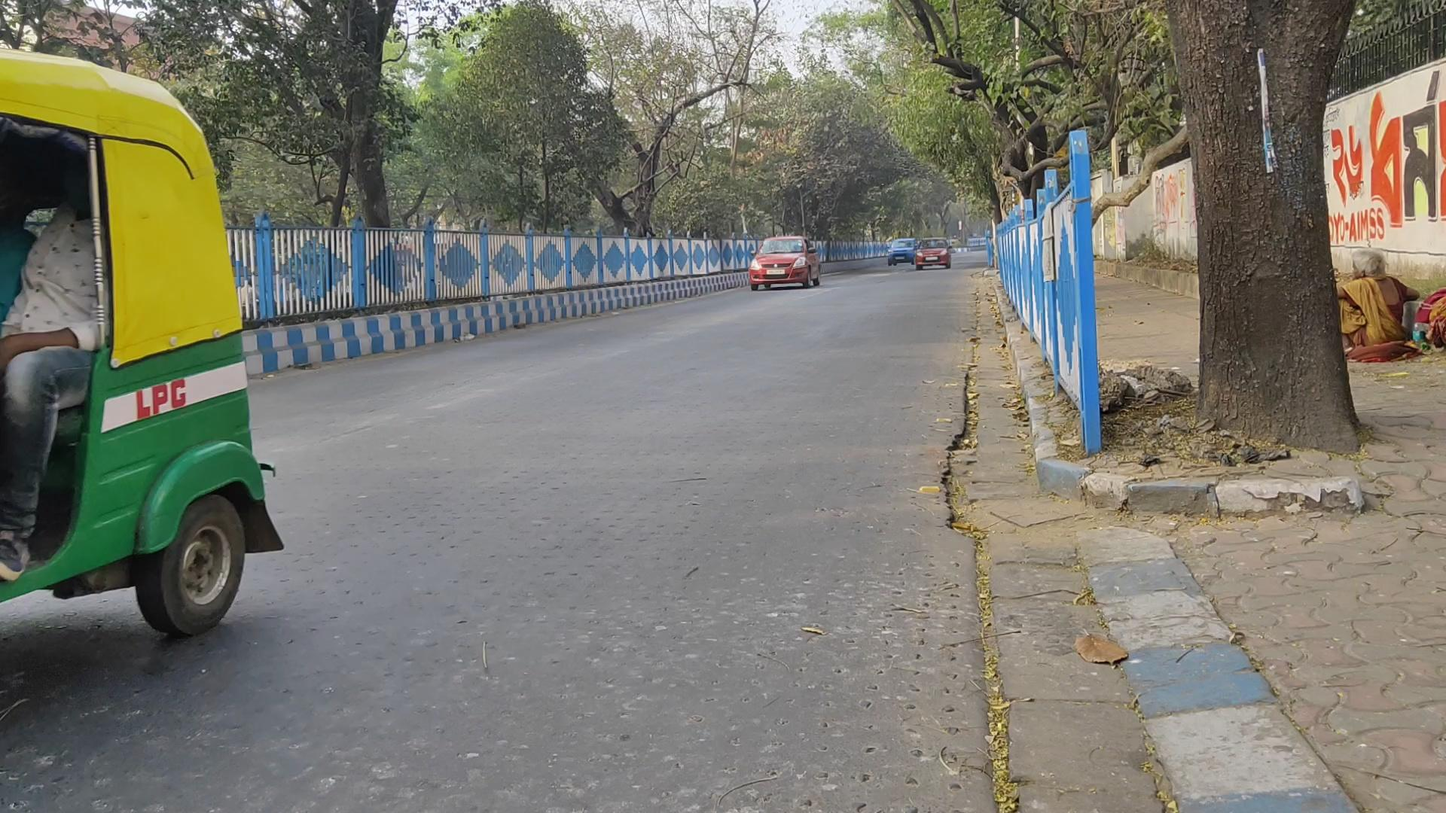Auto: (1, 46, 285, 649)
car: (749, 236, 822, 291), (914, 236, 953, 271), (886, 238, 917, 266)
